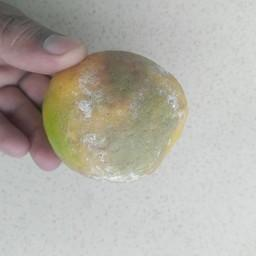Bad_orange: (36, 44, 191, 185)
